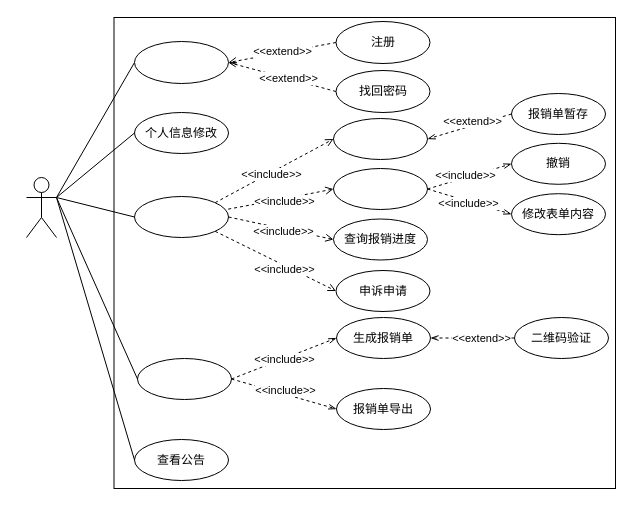
This 633x506 diagram has some shape labels left out. Here are the shapes that lost their labels. From the top down, the centre of each, then its label:
At point 181,62: "登录系统".
At point 380,139: "报销表单录入".
At point 41,207: "报销职工".
At point 380,189: "修改报销单".
At point 181,217: "申请报销".
At point 184,379: "查看报销记录".
